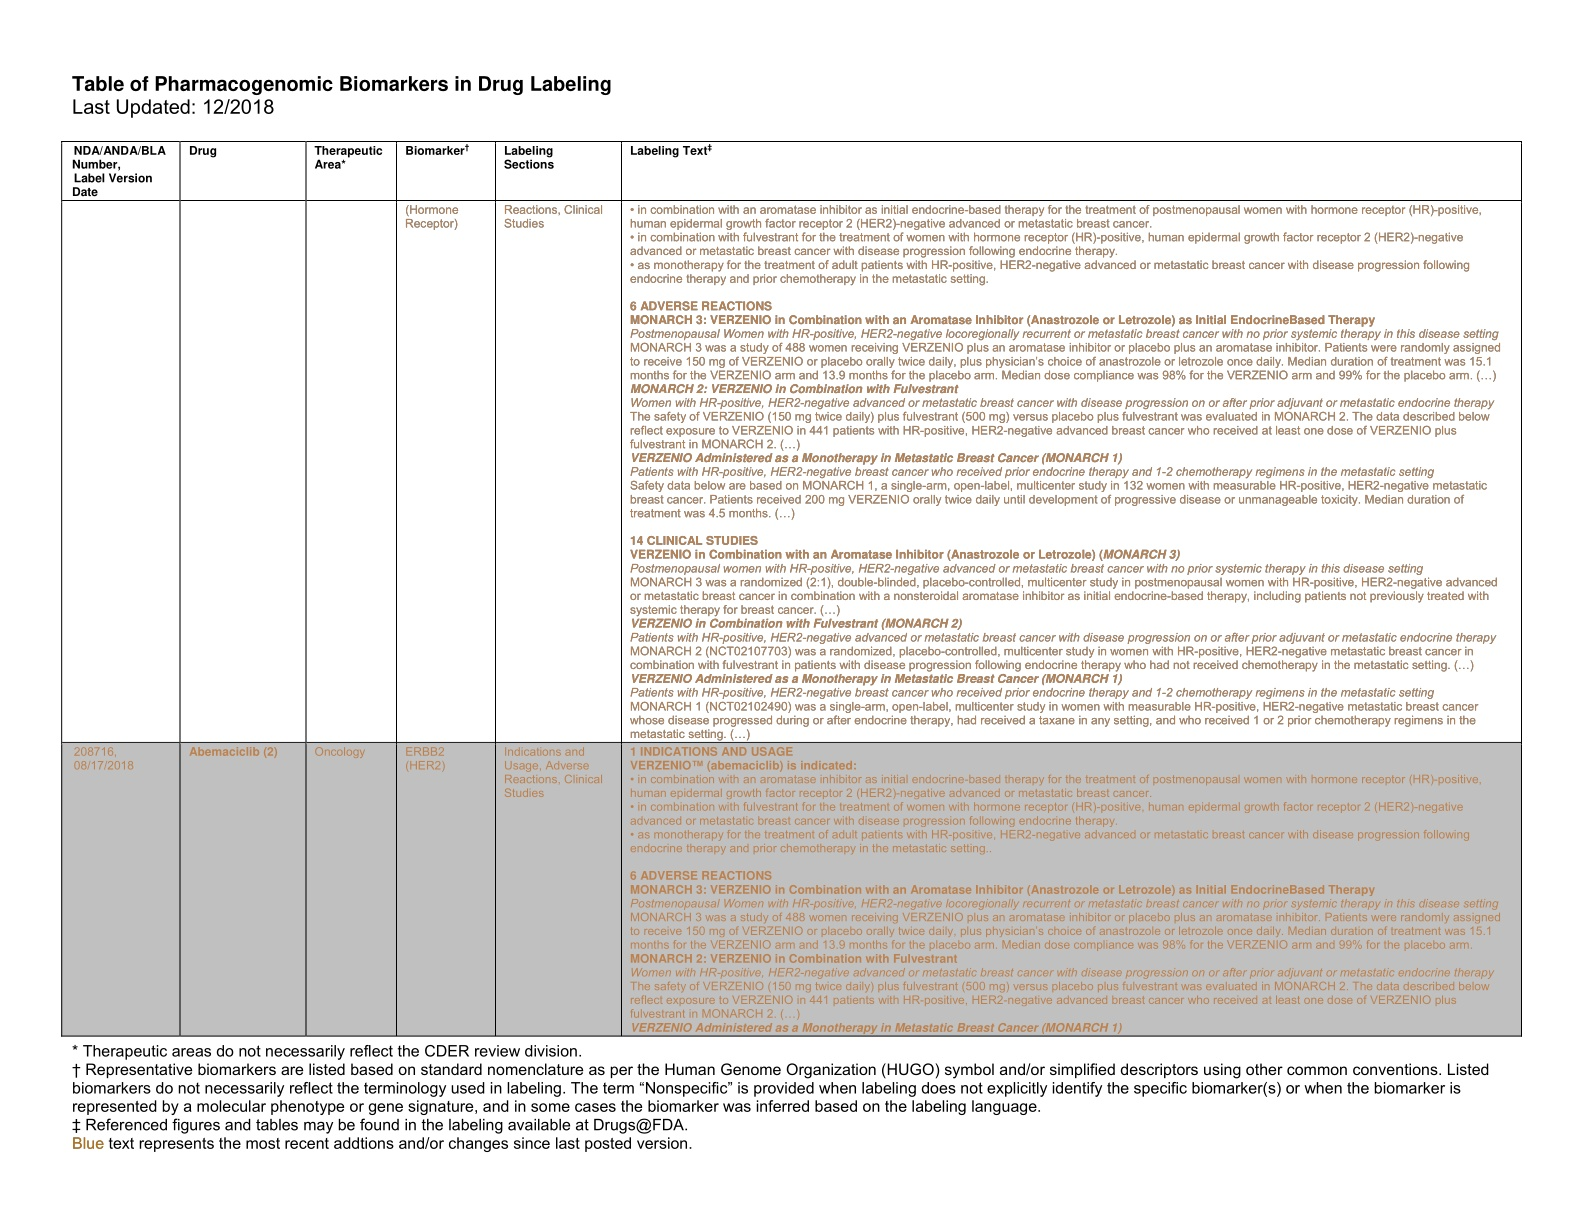full_lined: (60, 141, 1524, 1038)
